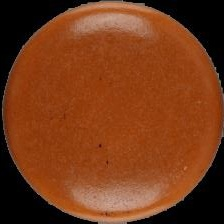52125-062: (0, 0, 224, 224)
